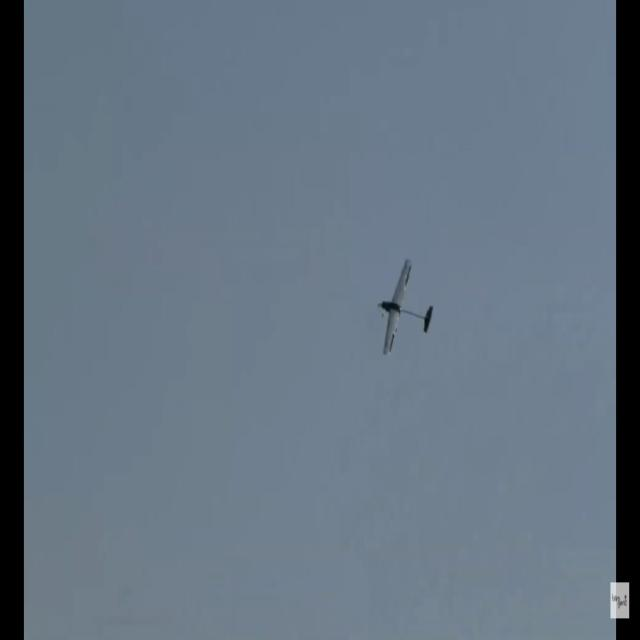iha: (376, 288, 434, 327)
